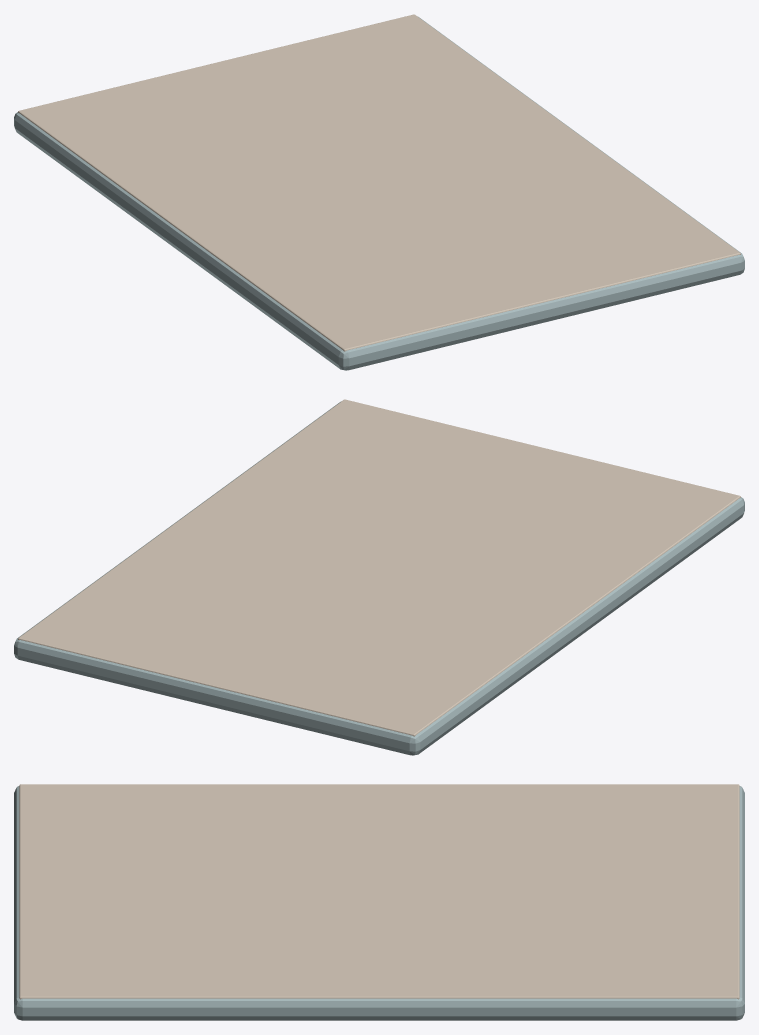
File: terrain_1.glb
The picture shows the model from 3 angles, top to bottom: view 1: azimuth 30°, elevation 25°; view 2: azimuth 150°, elevation 25°; view 3: azimuth 270°, elevation 25°; orthographic projection. The views are drawn at different scales.
Parts seen in each view (by area): view 1: terrain_1_terrain_1, terrain_1_Ocean_basalt; view 2: terrain_1_terrain_1, terrain_1_Ocean_basalt; view 3: terrain_1_terrain_1, terrain_1_Ocean_basalt.
Boxes of the visible parts, left/top/right/bottom form: terrain_1_terrain_1: left=18, top=14, right=740, bottom=351; terrain_1_Ocean_basalt: left=14, top=16, right=744, bottom=370; terrain_1_terrain_1: left=18, top=399, right=740, bottom=736; terrain_1_Ocean_basalt: left=14, top=401, right=744, bottom=755; terrain_1_terrain_1: left=19, top=784, right=739, bottom=999; terrain_1_Ocean_basalt: left=14, top=786, right=744, bottom=1020.
Size of the model in its own units: 19.2 by 1.01 by 27.2.
